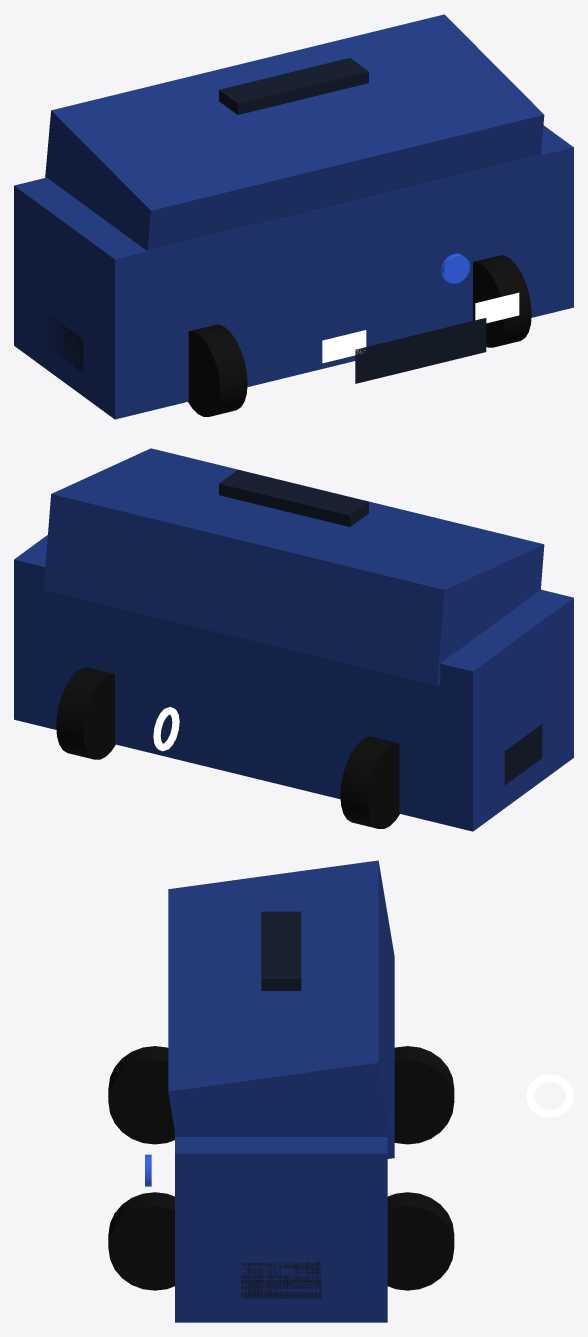
The model's file is electric_sedan_2025.glb.
3 views of the same model, one above another, from view 1: azimuth 30°, elevation 25°; view 2: azimuth 150°, elevation 25°; view 3: azimuth 270°, elevation 25° (orthographic). The views are drawn at different scales.
Visible parts, largest first — view 1: electric_sedan; view 2: electric_sedan; view 3: electric_sedan.
Boxes of the visible parts, <box> form: electric_sedan: <box>14,14,573,419</box>; electric_sedan: <box>14,448,573,831</box>; electric_sedan: <box>108,860,573,1322</box>.
Size of the model in its own units: 4.2 by 2.2 by 4.21.
